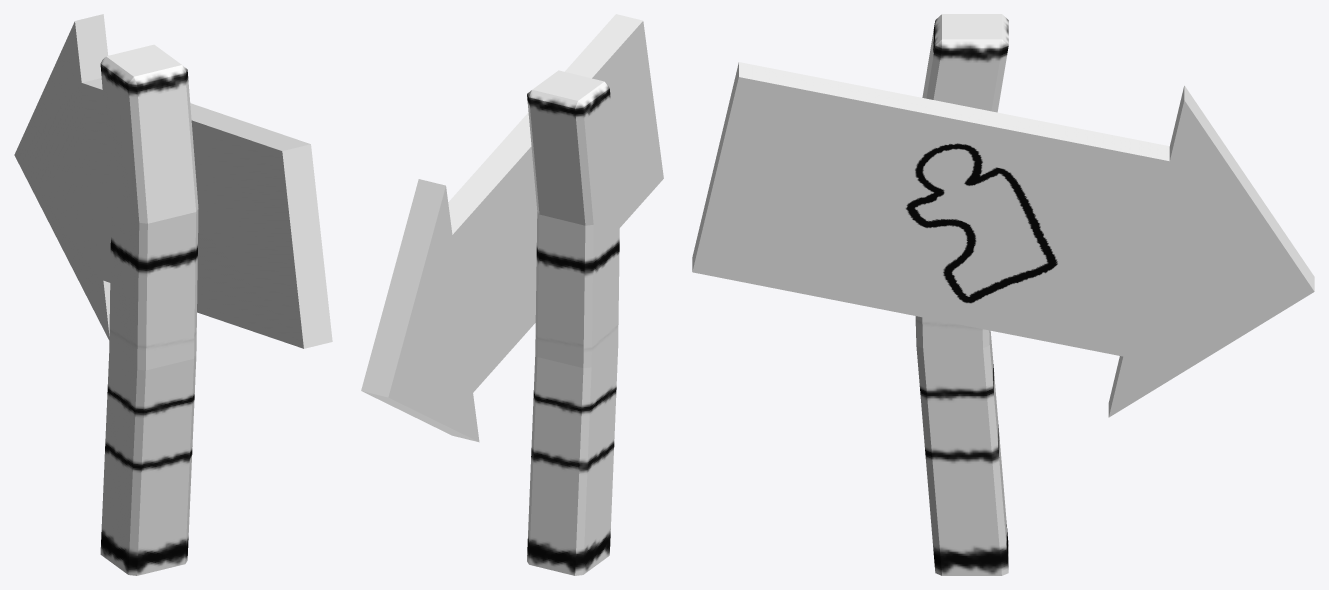
The model's file is Bord_puzzel.fbx.
3 renders of one model, left to right at view 1: azimuth 30°, elevation 25°; view 2: azimuth 150°, elevation 25°; view 3: azimuth 270°, elevation 25°, orthographic. The views are drawn at different scales.
Parts seen in each view (by area): view 1: Bord puzzel; view 2: Bord puzzel; view 3: Bord puzzel.
Part boxes in pixels (x1,y1,x2,y2): Bord puzzel: (14, 14, 332, 575); Bord puzzel: (361, 14, 663, 575); Bord puzzel: (692, 14, 1314, 575).
Bounding box in the file's own units: 23.66 × 128 × 135.
Materials: 2 (2 with a texture image).
